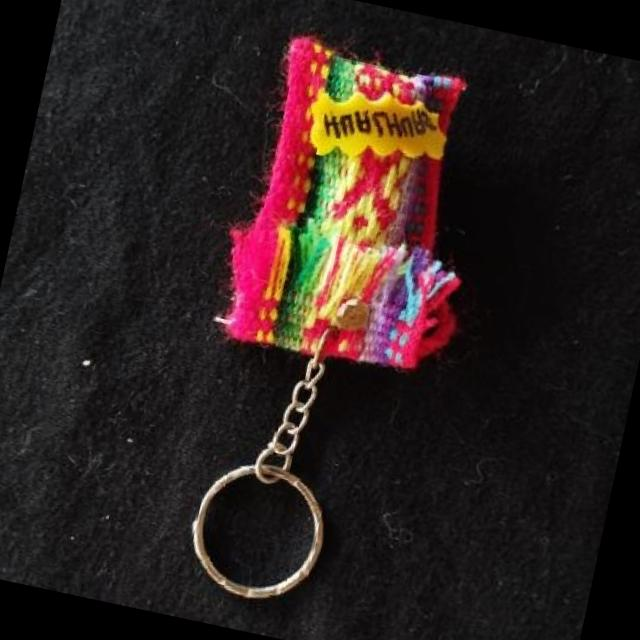Llavero: (205, 29, 508, 386)
